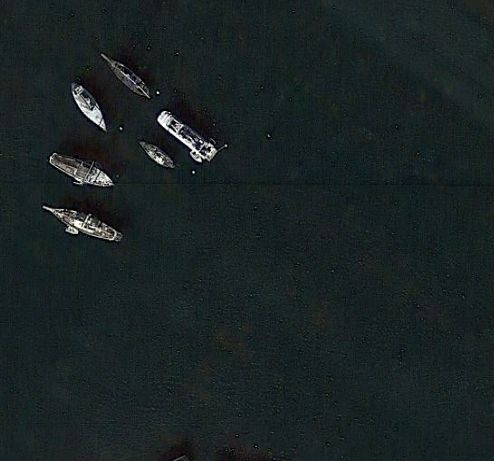boat: (40, 203, 125, 245), (157, 110, 221, 165), (100, 52, 152, 100), (49, 152, 116, 189), (69, 83, 109, 136), (137, 140, 177, 170)
